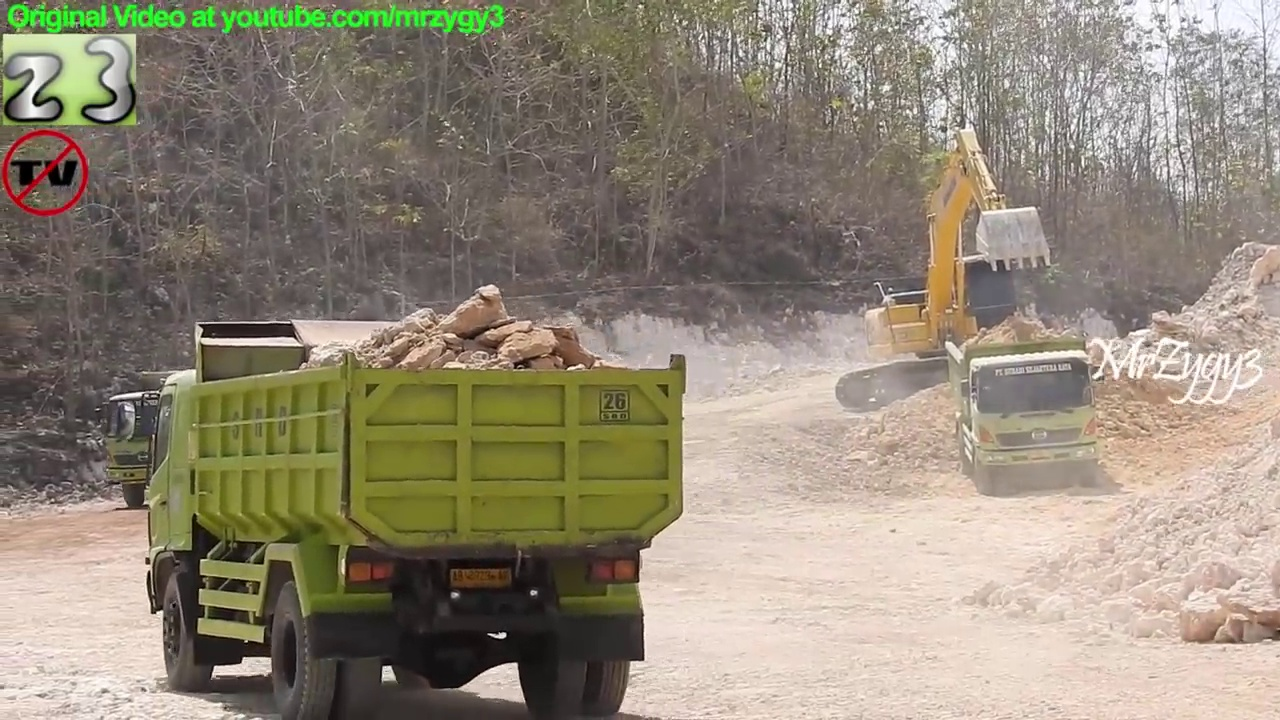excavator: (833, 119, 1093, 421)
truck: (113, 316, 696, 720), (91, 364, 341, 514), (938, 331, 1113, 496)
